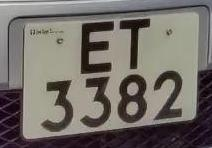2: (153, 67, 189, 125)
3: (36, 72, 80, 137), (77, 72, 114, 133)
8: (114, 69, 150, 129)
E: (74, 18, 123, 78)
T: (109, 14, 159, 76)
